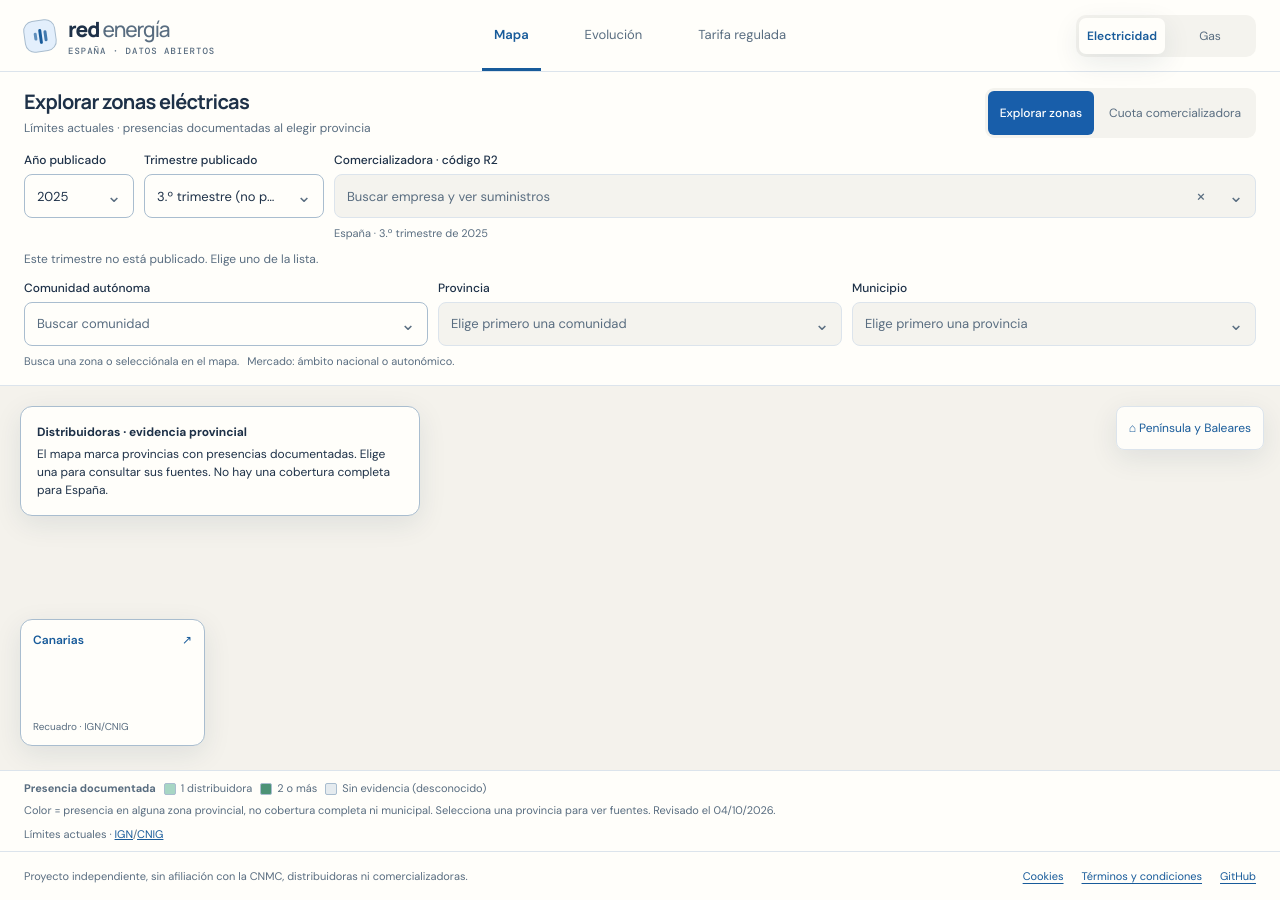
Test case: map loading errors › rejects unpublished periods and invalid codes without requesting their electricity values
This screenshot has width=1280, height=900.
Expected: the dropdown labelled "Comunidad autónoma" is enabled, x1=24 y1=302 x2=428 y2=346
Expected: the text "Este trimestre no está publicado. Elige uno de la lista." is shown, x1=24 y1=250 x2=318 y2=266
Replace the text in the dropdown labelled "Trimestre publicado" with "2025T1" at (234, 196), box x1=144 y1=174 x2=324 y2=218
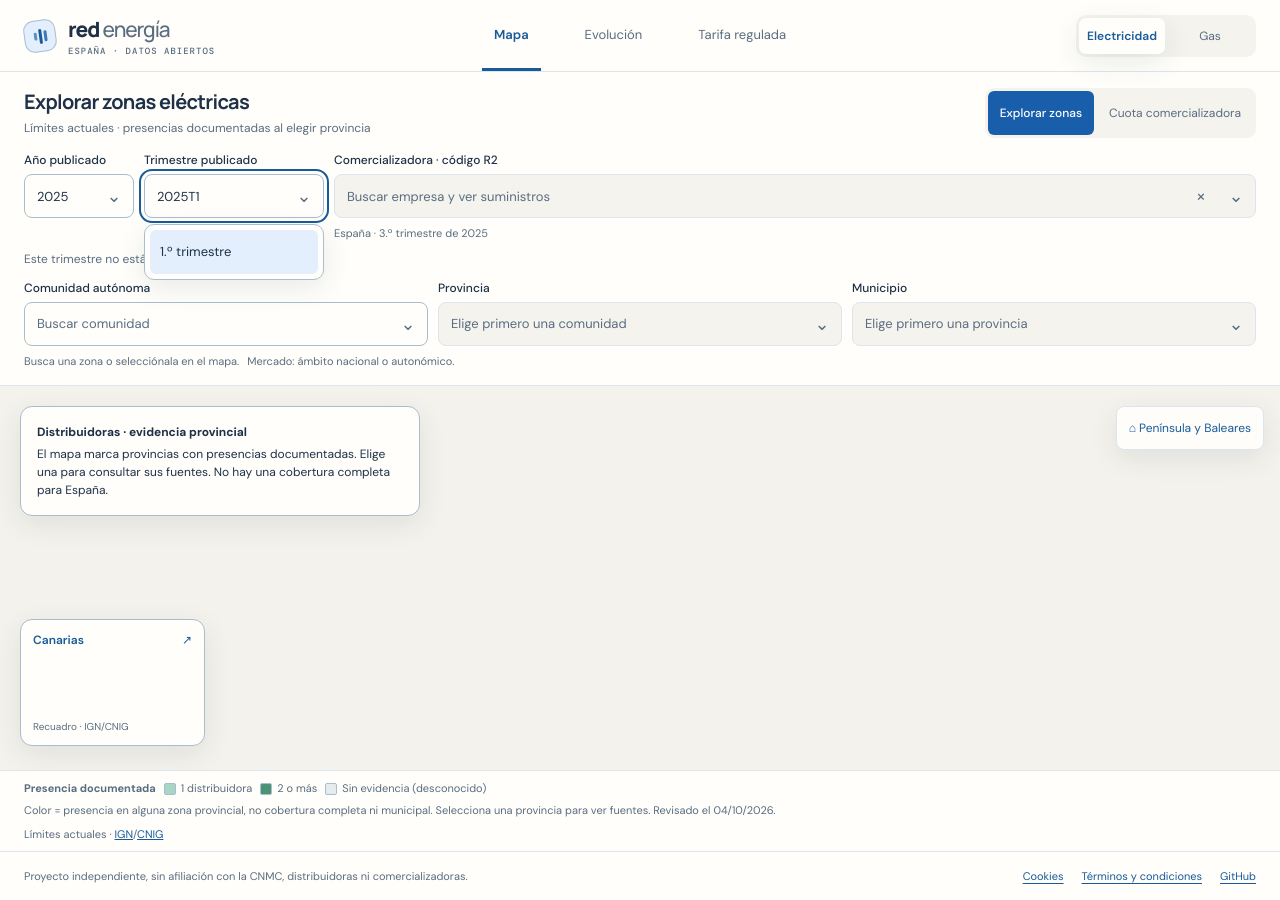
Press Enter in the dropdown labelled "Trimestre publicado", box x1=144 y1=174 x2=324 y2=218
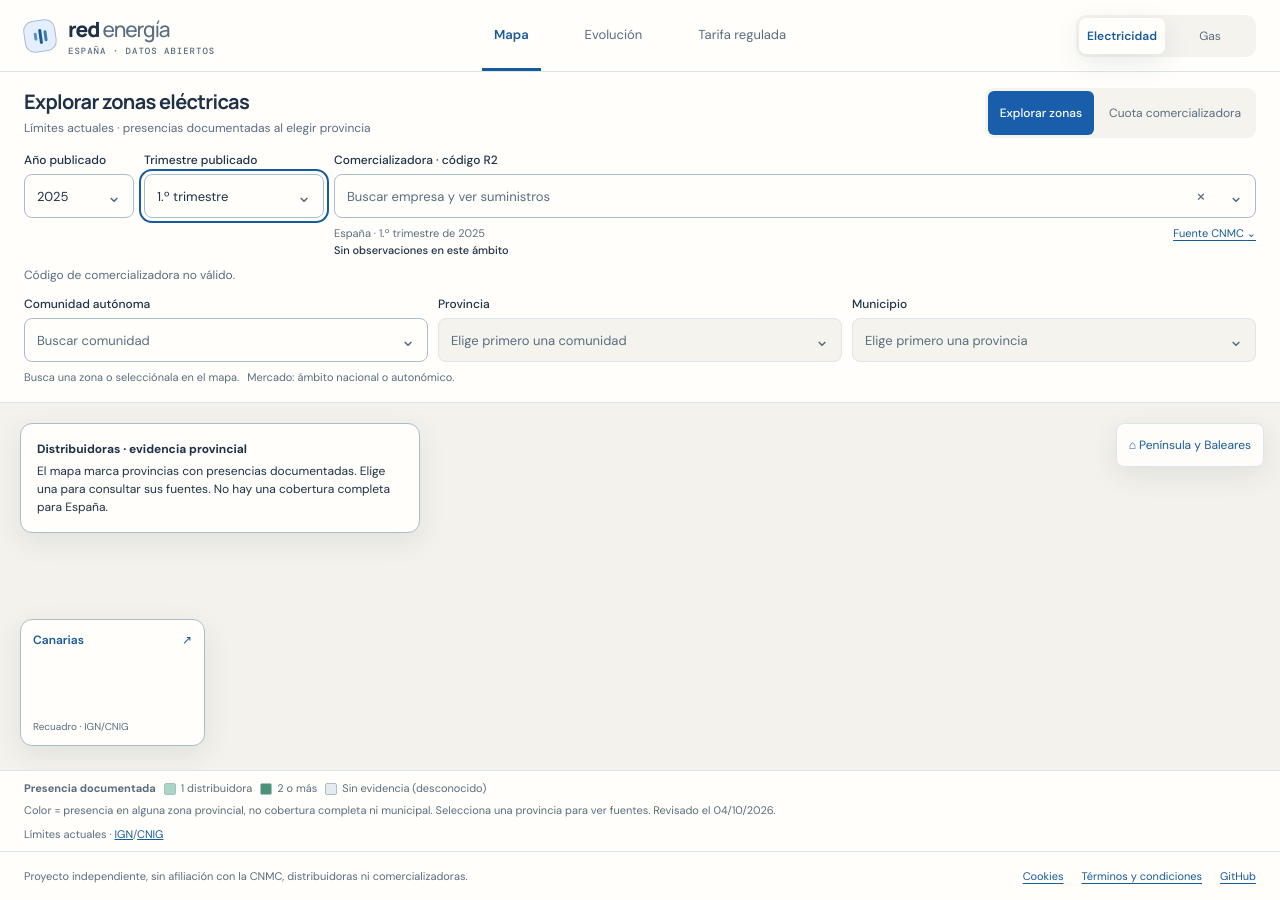
Expected: the text "Código de comercializadora no válido." is shown, x1=24 y1=267 x2=235 y2=283
